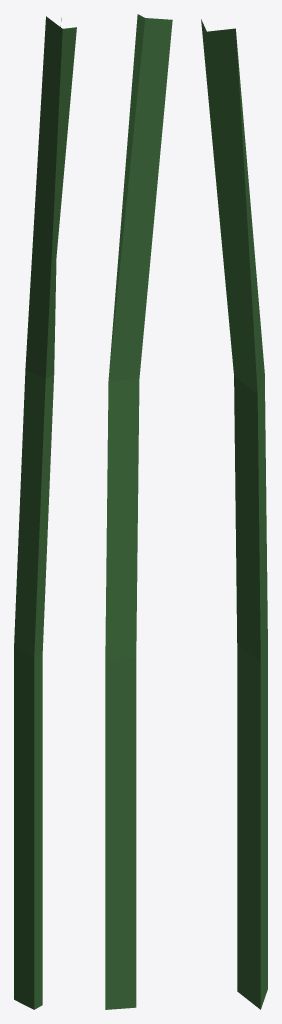
File: stem.glb
3 renders of one model, left to right at view 1: azimuth 90°, elevation 25°; view 2: azimuth 150°, elevation 25°; view 3: azimuth 330°, elevation 25°, orthographic.
Parts seen in each view (by area): view 1: Icosphere; view 2: Icosphere; view 3: Icosphere.
Boxes of the visible parts, x1,y1,x2,y2 form: Icosphere: (14, 16, 76, 1009); Icosphere: (105, 14, 172, 1009); Icosphere: (201, 19, 267, 1009).
Size of the model in its own units: 0.0313 by 0.5642 by 0.0321.
1 material, 1 textured.
